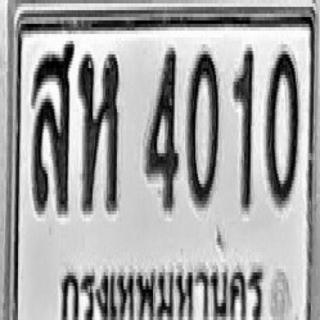A40: (32, 39, 74, 213)
A41: (78, 53, 119, 213)
N00: (186, 48, 219, 208), (265, 48, 298, 208)
N01: (233, 46, 253, 210)
N04: (145, 44, 179, 211)
P04: (53, 253, 269, 320)
